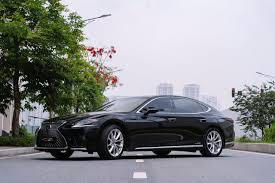lexus: (45, 122, 51, 134)
